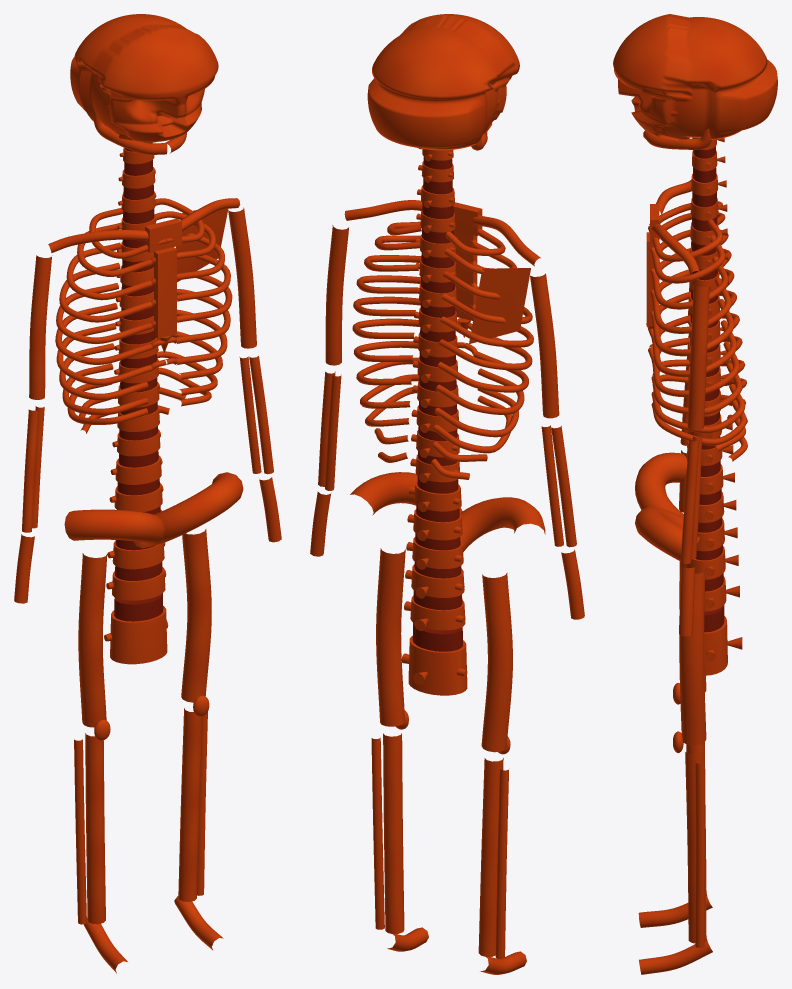
The model's file is skeleton.glb.
The picture shows the model from 3 angles, left to right: view 1: azimuth 30°, elevation 25°; view 2: azimuth 150°, elevation 25°; view 3: azimuth 270°, elevation 25°; orthographic projection. The views are drawn at different scales.
Parts seen in each view (by area): view 1: asthi_cranium_skull, asthi_femur_l, asthi_femur_r, asthi_tibia_r, asthi_tibia_l, asthi_pelvis_l, asthi_pelvis_r, asthi_vertebra_sacrum, asthi_humerus_l, asthi_humerus_r, asthi_sternum_body, asthi_fibula_l (+38 smaller); view 2: asthi_cranium_skull, asthi_femur_l, asthi_femur_r, asthi_tibia_r, asthi_tibia_l, asthi_scapula_l, asthi_vertebra_sacrum, asthi_pelvis_l, asthi_humerus_l, asthi_humerus_r, asthi_fibula_r, asthi_fibula_l (+36 smaller); view 3: asthi_cranium_skull, asthi_femur_r, asthi_humerus_r, asthi_pelvis_l, asthi_tibia_r, asthi_fibula_r, asthi_pelvis_r, asthi_radius_r, asthi_foot_r, asthi_vertebra_sacrum, asthi_hand_r, asthi_foot_l (+22 smaller).
Boxes of the visible parts, box(x1,y1,x2,y2) form: asthi_cranium_skull: box(70, 14, 218, 143); asthi_femur_l: box(78, 553, 107, 727); asthi_femur_r: box(181, 529, 211, 702); asthi_tibia_r: box(178, 708, 202, 901); asthi_tibia_l: box(85, 733, 105, 924); asthi_pelvis_l: box(64, 509, 164, 548); asthi_pelvis_r: box(154, 472, 243, 544); asthi_vertebra_sacrum: box(110, 606, 167, 664); asthi_humerus_l: box(29, 255, 52, 399); asthi_humerus_r: box(228, 207, 256, 348); asthi_sternum_body: box(154, 247, 176, 338); asthi_fibula_l: box(74, 739, 86, 924); asthi_cranium_skull: box(367, 14, 519, 150); asthi_femur_l: box(481, 572, 512, 752); asthi_femur_r: box(376, 548, 405, 726); asthi_tibia_r: box(383, 733, 404, 933); asthi_tibia_l: box(478, 758, 503, 956); asthi_scapula_l: box(469, 268, 530, 343); asthi_vertebra_sacrum: box(408, 636, 467, 695); asthi_pelvis_l: box(460, 497, 545, 552); asthi_humerus_l: box(530, 273, 559, 418); asthi_humerus_r: box(325, 225, 348, 365); asthi_fibula_r: box(371, 737, 384, 929); asthi_fibula_l: box(495, 769, 508, 959); asthi_cranium_skull: box(613, 14, 777, 141); asthi_femur_r: box(679, 570, 706, 745); asthi_humerus_r: box(687, 284, 709, 430); asthi_pelvis_l: box(635, 452, 687, 516); asthi_tibia_r: box(685, 751, 706, 943); asthi_fibula_r: box(695, 762, 705, 947); asthi_pelvis_r: box(635, 506, 699, 561); asthi_radius_r: box(680, 440, 699, 563); asthi_foot_r: box(639, 938, 712, 974); asthi_vertebra_sacrum: box(704, 616, 727, 675); asthi_hand_r: box(679, 566, 695, 636); asthi_foot_l: box(638, 894, 712, 927).
Size of the model in its own units: 0.5278 by 1.75 by 0.2812.
